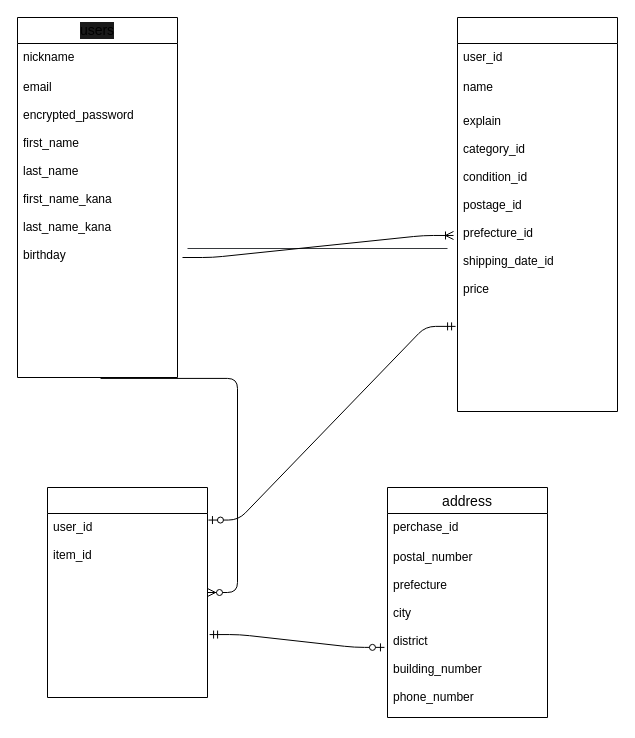
Image size: 635x738. Some labels were removed from this diagram. Here are the shapes that lost their labels. From the top down, the box of each, then its label:
(456, 16, 618, 412): items
(46, 486, 208, 698): purchase
